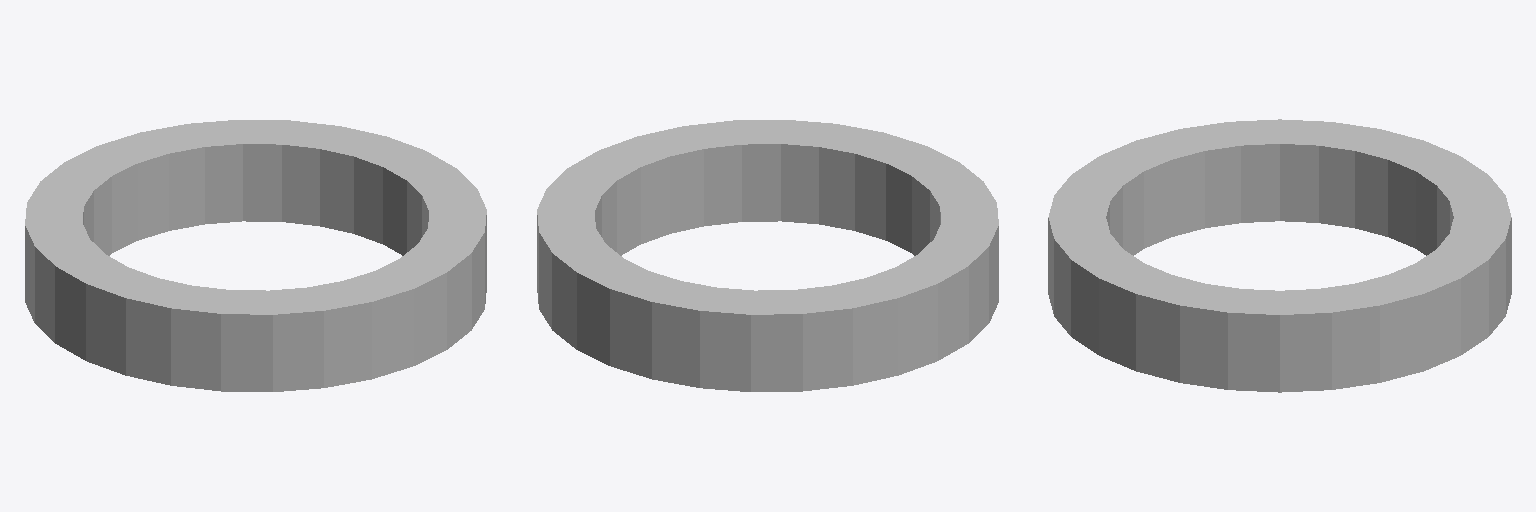
File: RING2.obj
The picture shows the model from 3 angles: view 1: azimuth 30°, elevation 25°; view 2: azimuth 150°, elevation 25°; view 3: azimuth 270°, elevation 25°; orthographic projection.
Parts seen in each view (by area): view 1: RING2; view 2: RING2; view 3: RING2.
Boxes of the visible parts, x1,y1,x2,y2 form: RING2: [25, 120, 486, 391]; RING2: [537, 120, 998, 391]; RING2: [1048, 119, 1511, 392].
Size of the model in its own units: 4.23 by 0.7811 by 4.23.